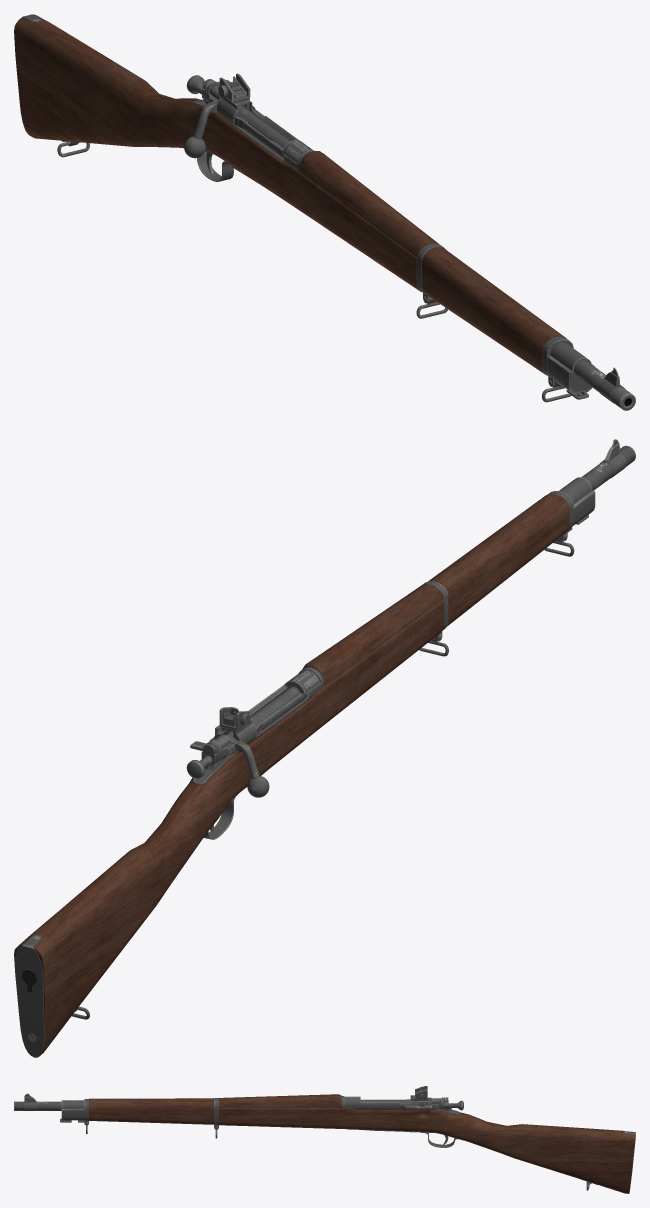
3 views of the same model, one above another, from view 1: azimuth 30°, elevation 25°; view 2: azimuth 150°, elevation 25°; view 3: azimuth 270°, elevation 25° (orthographic). The views are drawn at different scales.
Visible parts, largest first — view 1: Body_M1903 A3; view 2: Body_M1903 A3; view 3: Body_M1903 A3.
Part boxes in pixels (x1,y1,x2,y2): Body_M1903 A3: (14, 14, 635, 410); Body_M1903 A3: (14, 439, 635, 1057); Body_M1903 A3: (14, 1086, 635, 1193).
Bounding box in the file's own units: 0.0636 × 0.2064 × 1.11.
Materials: 1 (1 with a texture image).
